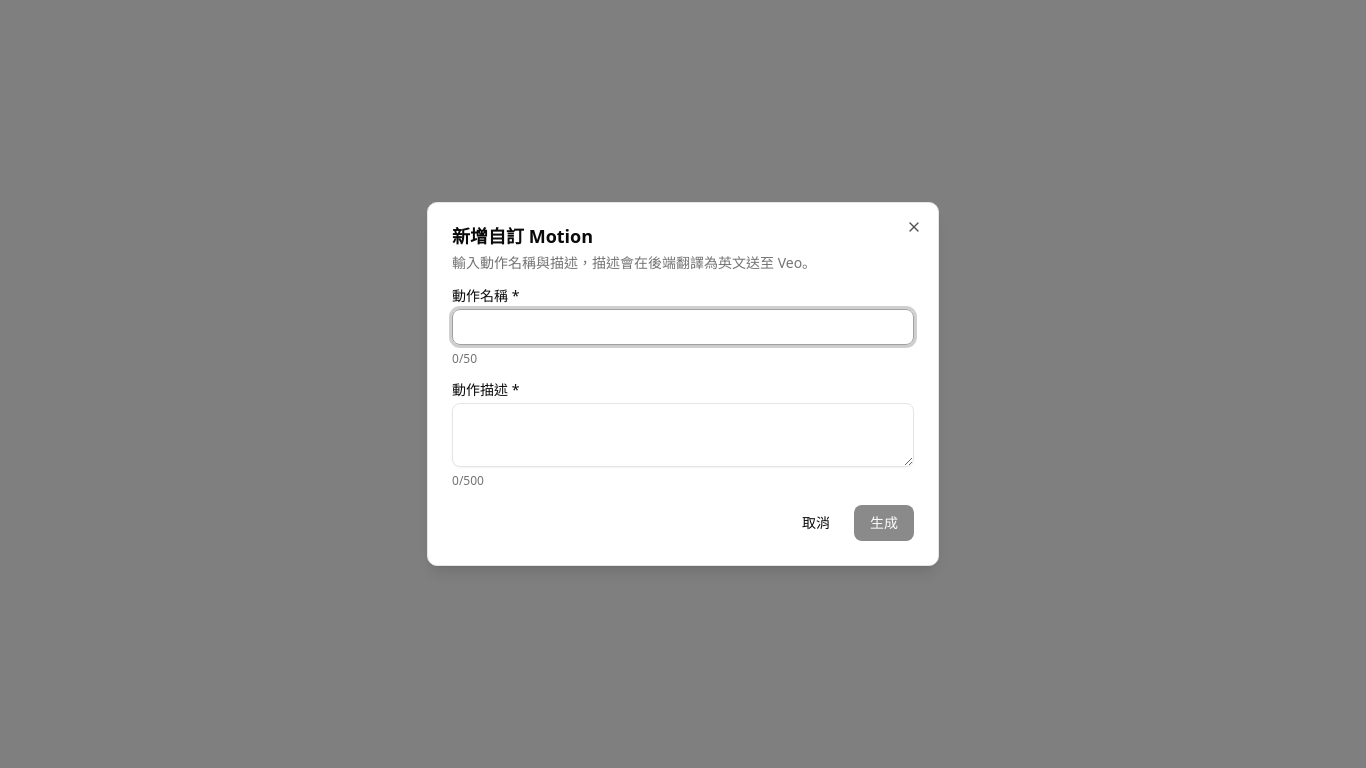
Test: CustomMotionModal › toasts non-form errors instead of swallowing them
Step 1. Type "揮手" into the field with test id "custom-motion-name-input" → (683, 327), box top-left (452, 309), bottom-right (914, 345)
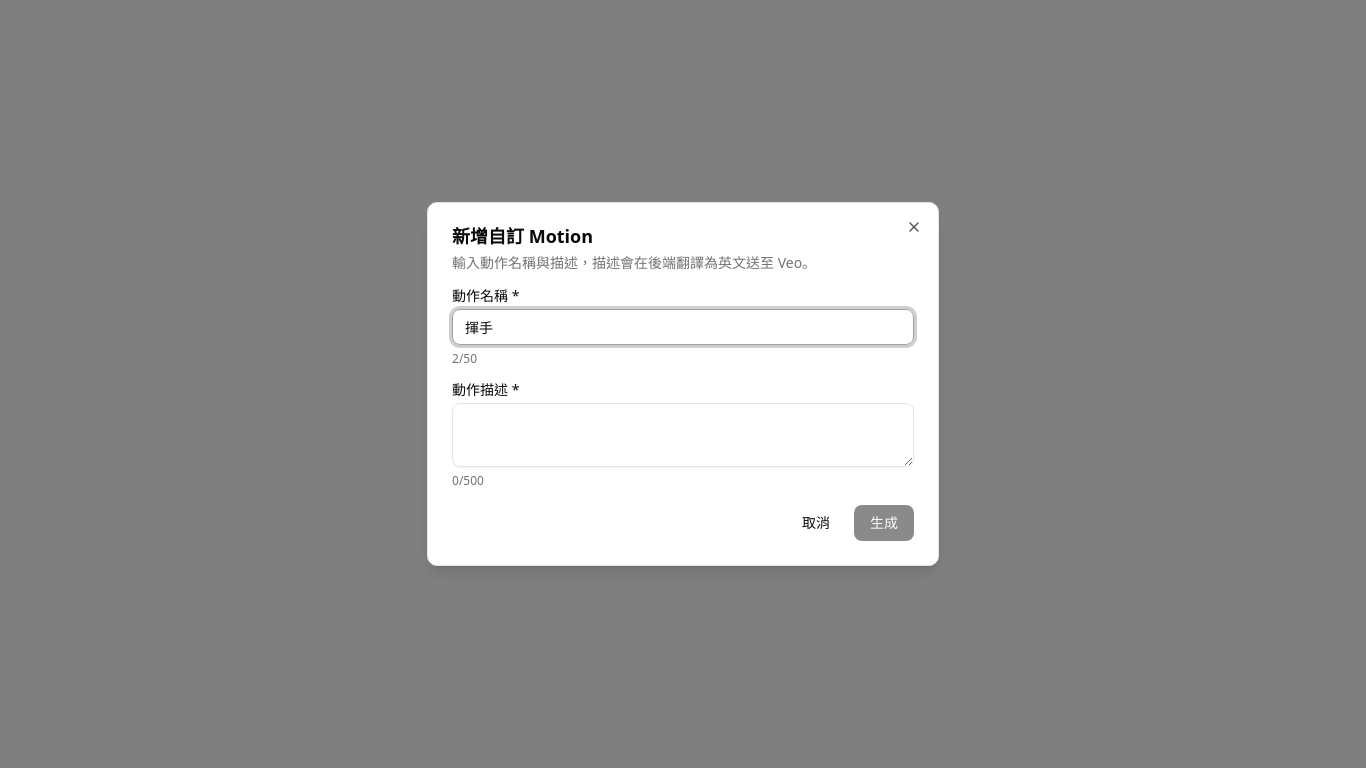
Step 2. Type "描述" into the text box with test id "custom-motion-description-input" → (683, 435), box top-left (452, 403), bottom-right (914, 467)
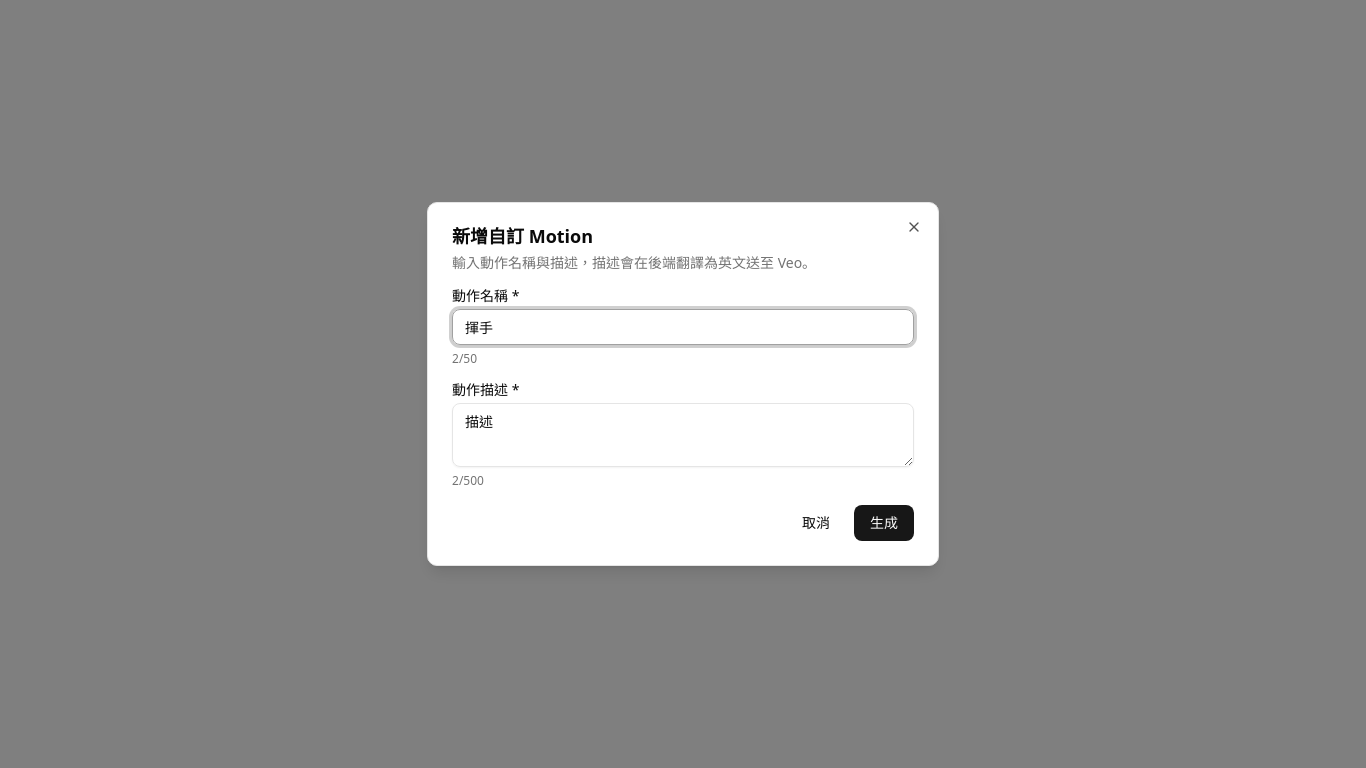
Step 3. Click the button with test id "custom-motion-submit" → (884, 523), box top-left (854, 505), bottom-right (914, 541)
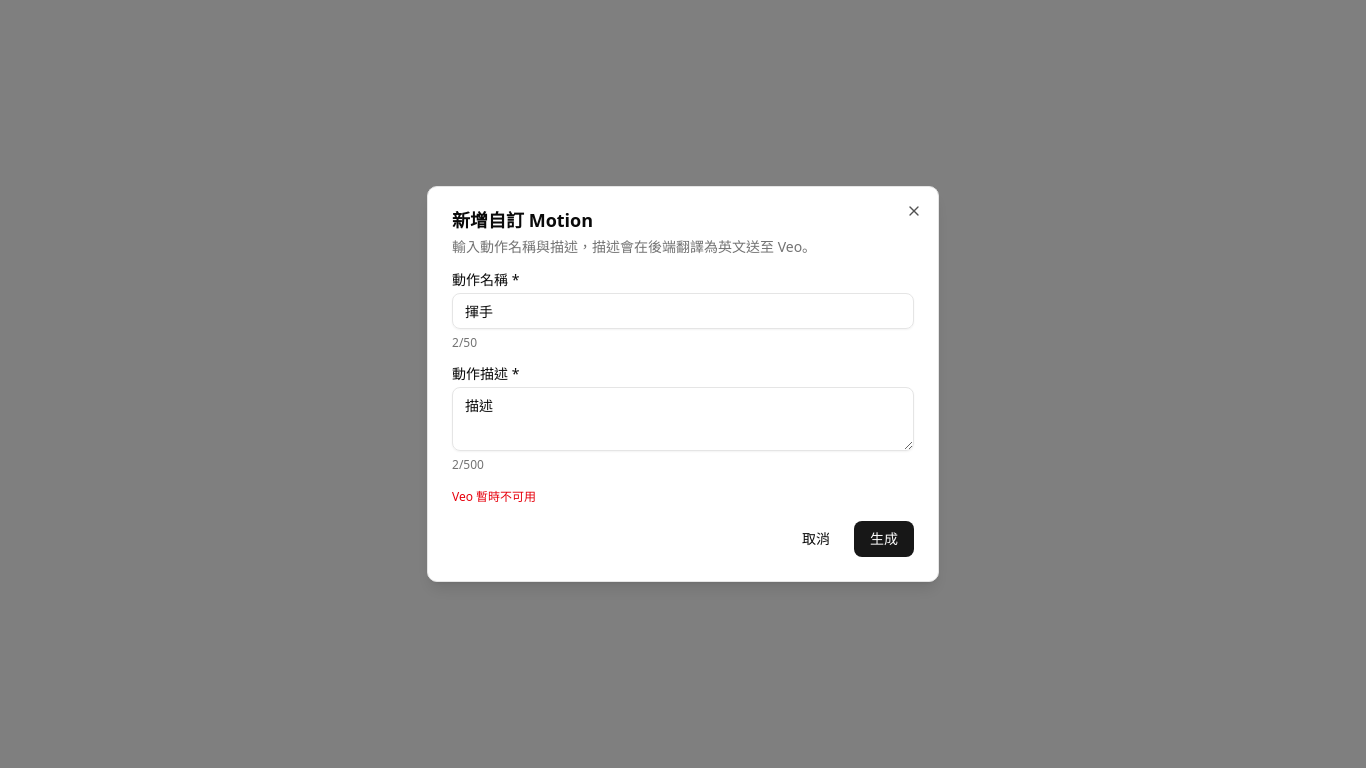
Now the message "Veo 暫時不可用" is shown, box top-left (452, 488), bottom-right (536, 505)
Now the message with test id "custom-motion-error" reads "Veo 暫時不可用", box top-left (452, 488), bottom-right (536, 505)
